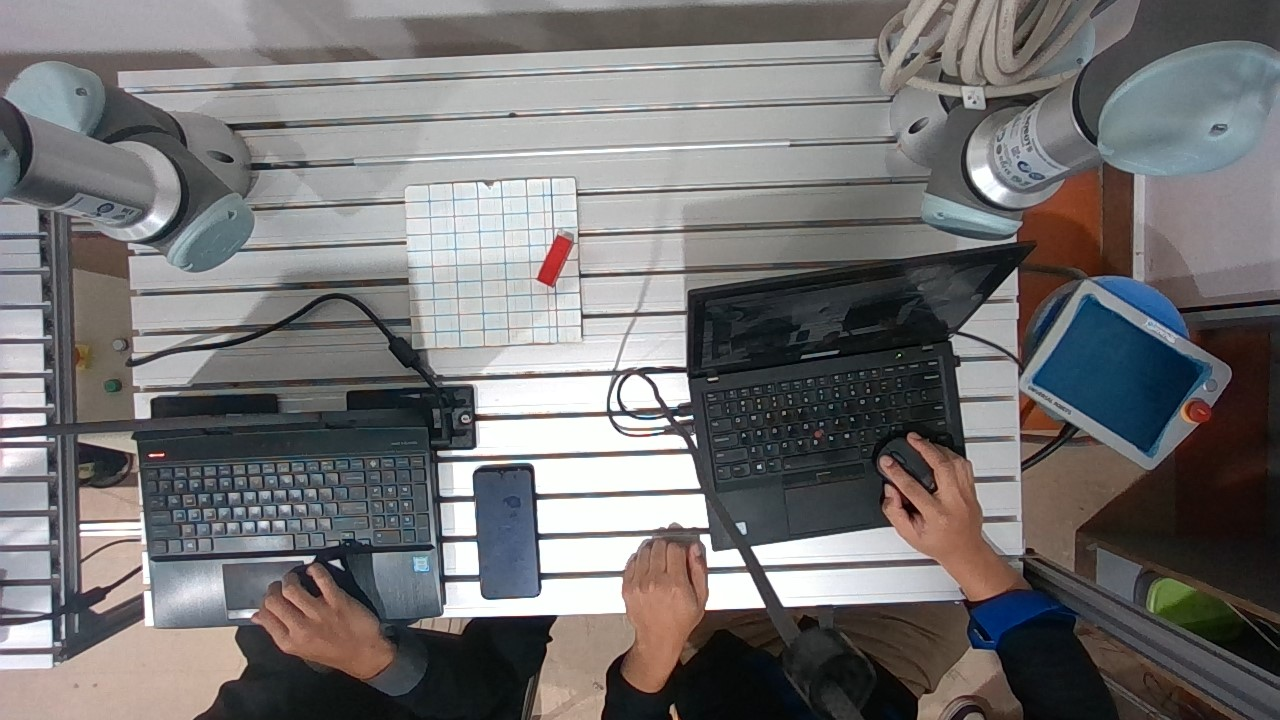box: (541, 224, 576, 298)
